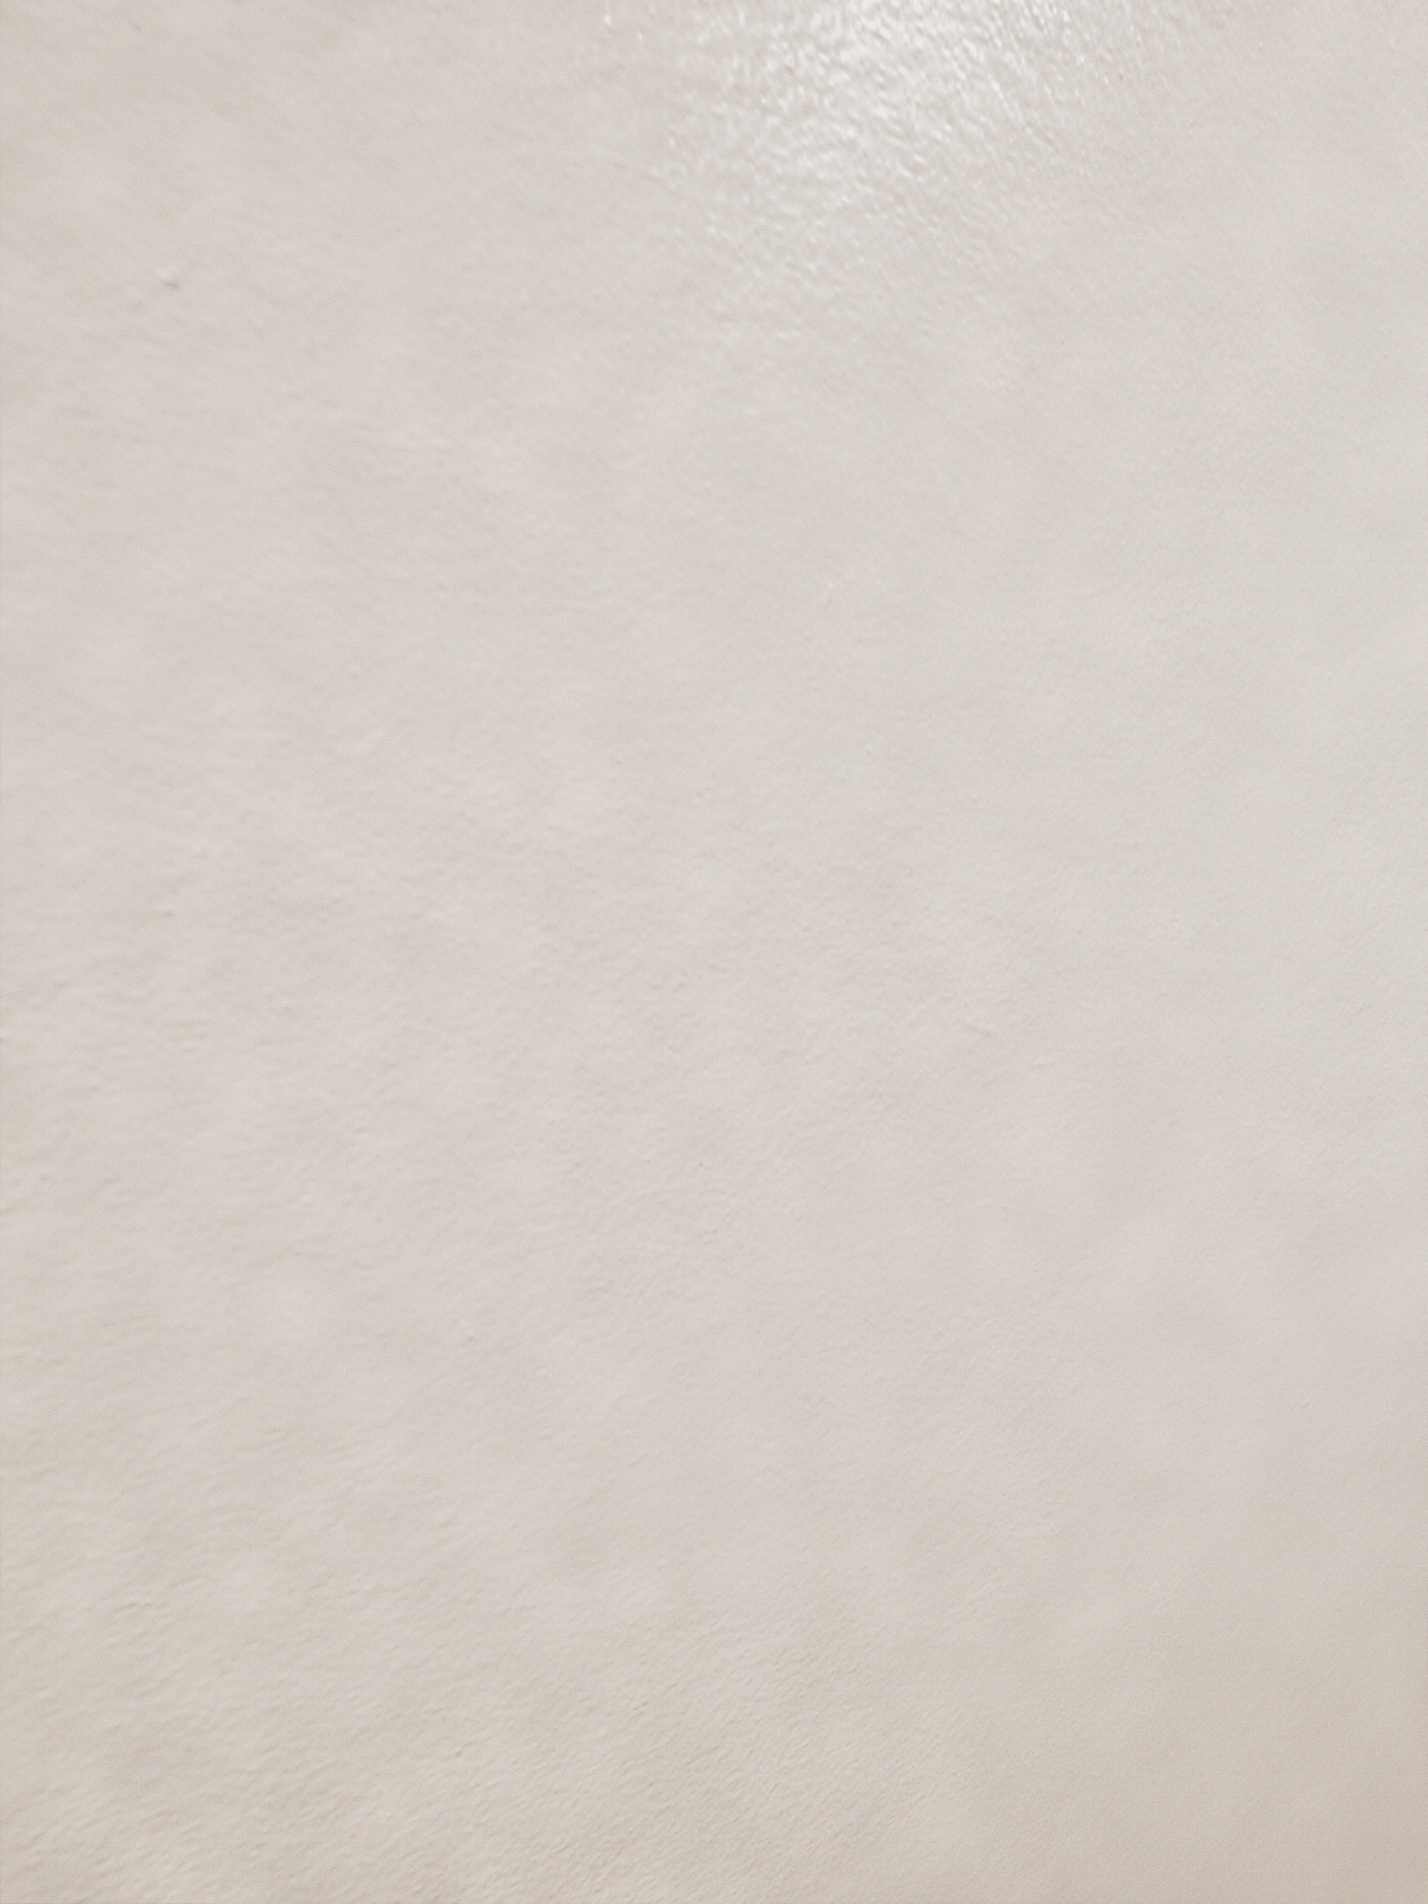soup: (618, 675, 790, 953)
